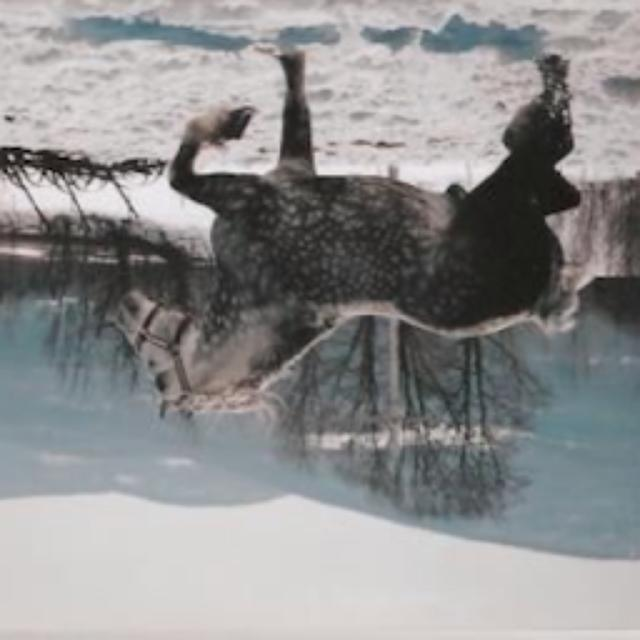Horse: (105, 45, 600, 428)
